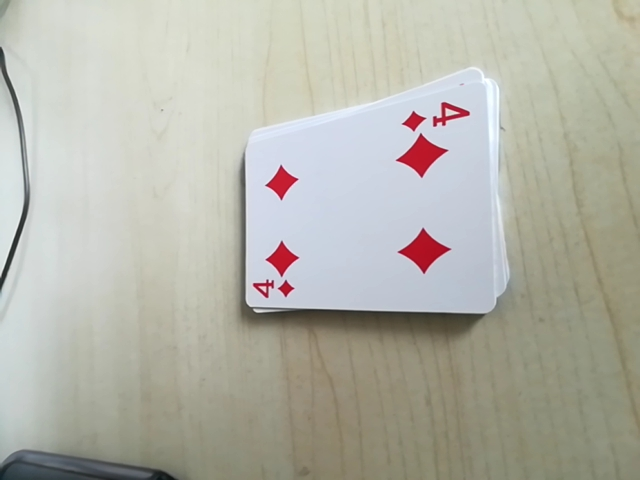fk 4: (400, 93, 476, 136), (248, 272, 298, 305)
